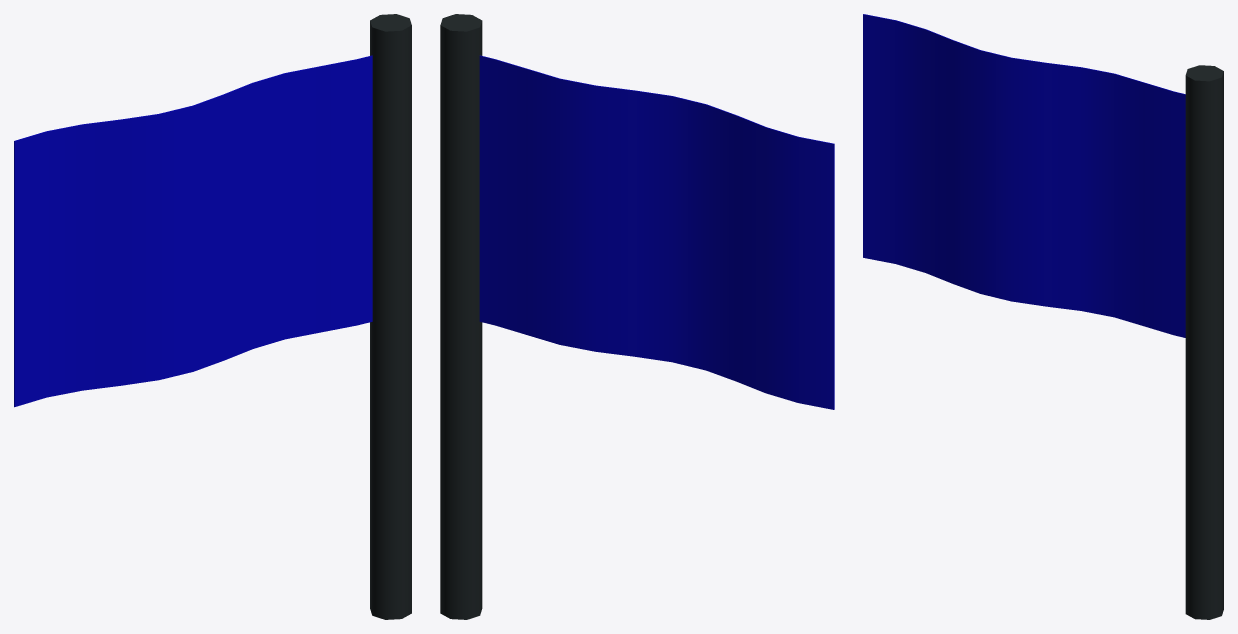
File: flag_basic.obj
The picture shows the model from 3 angles, left to right: view 1: azimuth 30°, elevation 25°; view 2: azimuth 150°, elevation 25°; view 3: azimuth 330°, elevation 25°; orthographic projection. The views are drawn at different scales.
Parts seen in each view (by area): view 1: 1, 0; view 2: 1, 0; view 3: 1, 0.
Boxes of the visible parts, <box> form: 1: <box>14,55,372,407</box>; 0: <box>370,14,411,619</box>; 1: <box>479,55,834,409</box>; 0: <box>440,14,482,619</box>; 1: <box>863,14,1185,337</box>; 0: <box>1185,65,1223,619</box>.
Size of the model in its own units: 0.42 by 0.6 by 0.04.
